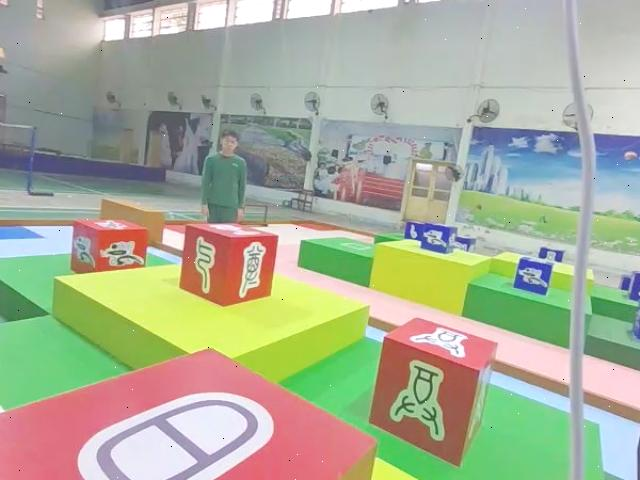R1: (69, 216, 152, 280)
R2 Fake: (0, 343, 380, 480), (177, 219, 281, 309)
R2 Real: (367, 314, 500, 469)
